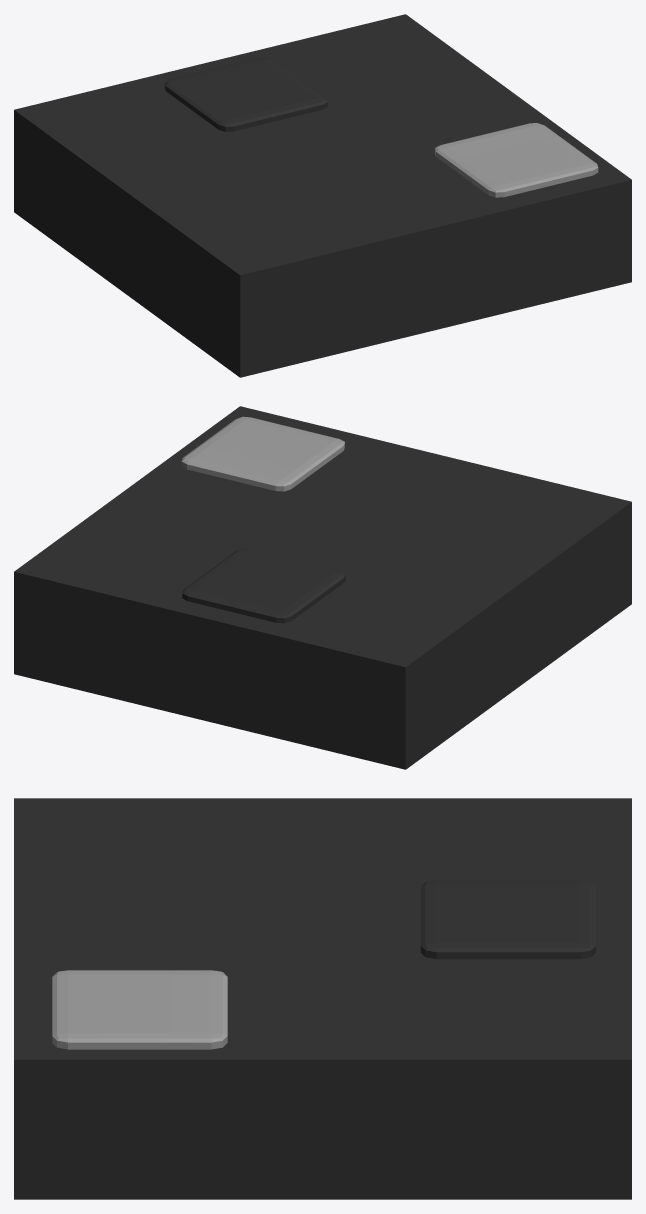
The model's file is reskined-floor2.fbx.
The picture shows the model from 3 angles, top to bottom: view 1: azimuth 30°, elevation 25°; view 2: azimuth 150°, elevation 25°; view 3: azimuth 270°, elevation 25°; orthographic projection. The views are drawn at different scales.
Visible parts, largest first — view 1: floor_t2; view 2: floor_t2; view 3: floor_t2.
Part boxes in pixels (x1,y1,x2,y2): floor_t2: [14, 14, 631, 377]; floor_t2: [14, 406, 631, 769]; floor_t2: [14, 798, 631, 1199].
Size of the model in its own units: 400 by 107 by 400.
